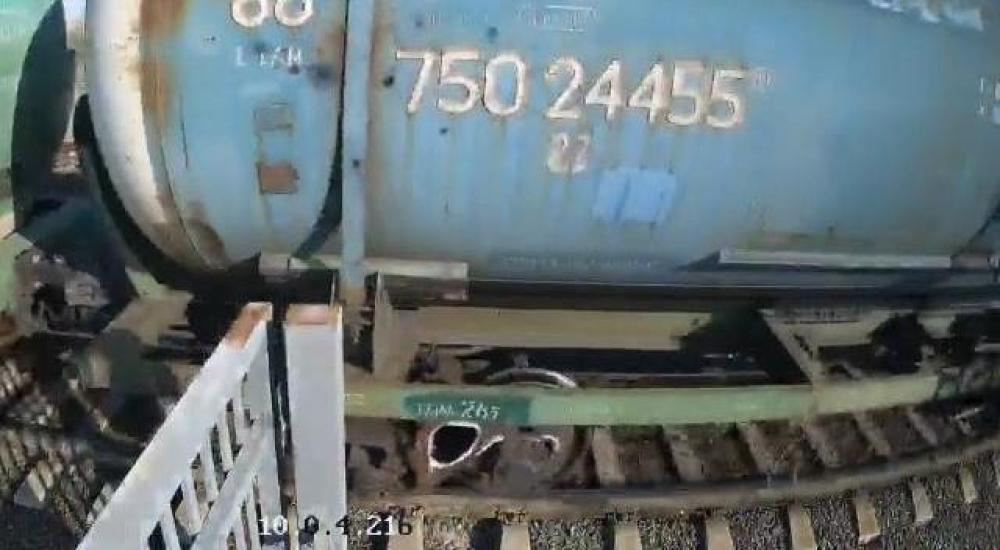Wagon-number: (387, 43, 748, 130)
